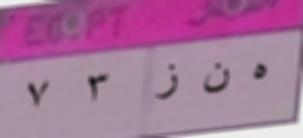3: (83, 67, 114, 112)
7: (22, 75, 53, 109)
haa: (248, 57, 270, 88)
noon: (200, 61, 233, 100)
zay: (149, 59, 184, 104)
